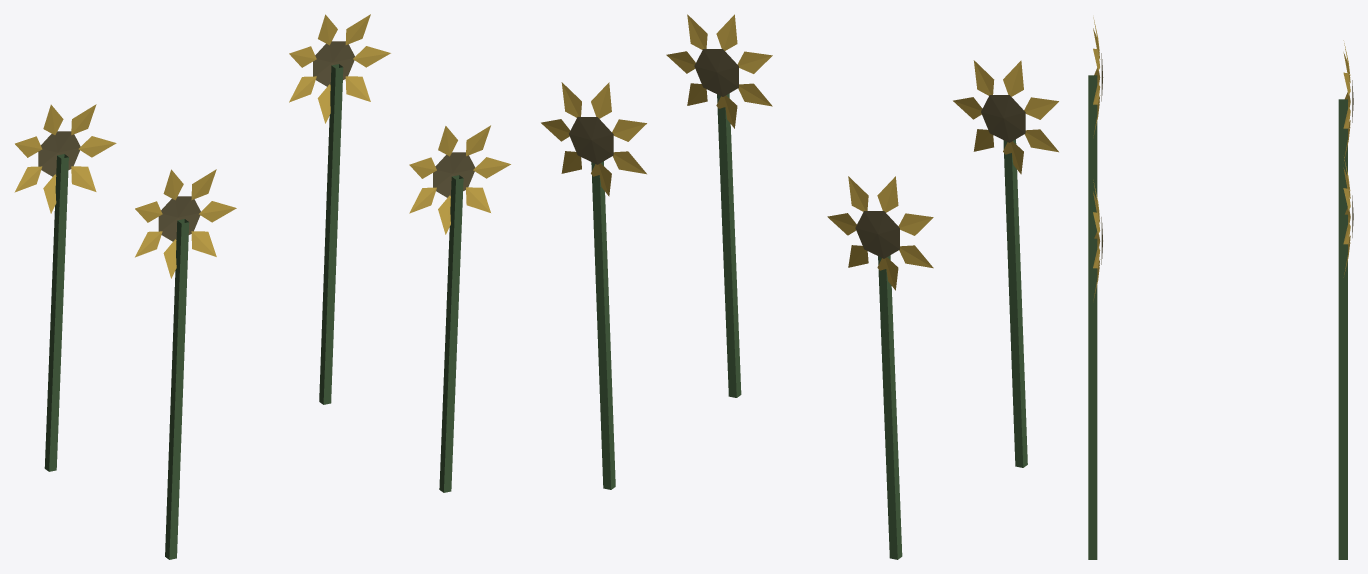
File: ua_sunflower_patch_lod.obj
3 views of the same model, side by side, from view 1: azimuth 30°, elevation 25°; view 2: azimuth 150°, elevation 25°; view 3: azimuth 270°, elevation 25° (orthographic). The views are drawn at different scales.
Visible parts, largest first — view 1: ua_sunflower_patch_lod; view 2: ua_sunflower_patch_lod; view 3: ua_sunflower_patch_lod.
Part boxes in pixels (left/top/right/bottom): ua_sunflower_patch_lod: left=14, top=14, right=510, bottom=559; ua_sunflower_patch_lod: left=541, top=14, right=1058, bottom=559; ua_sunflower_patch_lod: left=1088, top=17, right=1353, bottom=559.
Size of the model in its own units: 1.54 by 1.52 by 0.9005.
